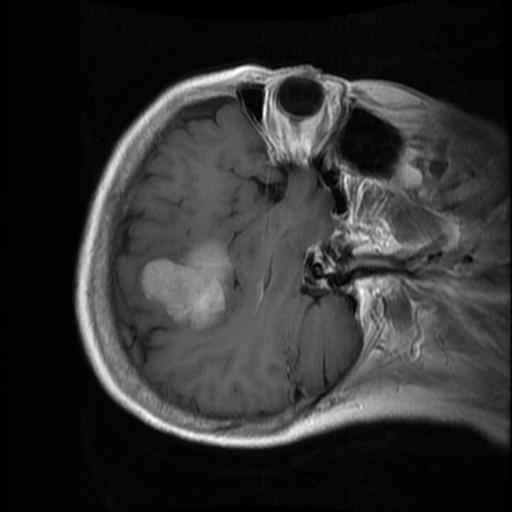meningioma: (139, 238, 234, 328)
